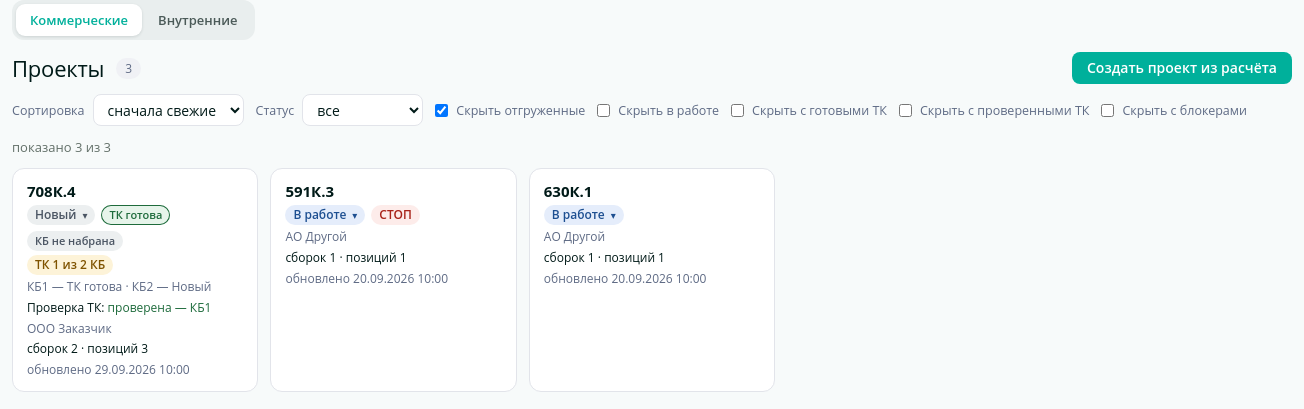
it: ProjectsPage › hides projects in work on request — владелец 19.10
The width and height of the screenshot is (1304, 409).
Expected: the text "630К.1" is shown, left=544, top=181, right=592, bottom=201
What coordinates should you click on to do the following:
click the checkbox labelled "Скрыть в работе"
I would click on:
 (604, 110)
Its box is left=597, top=104, right=610, bottom=116.
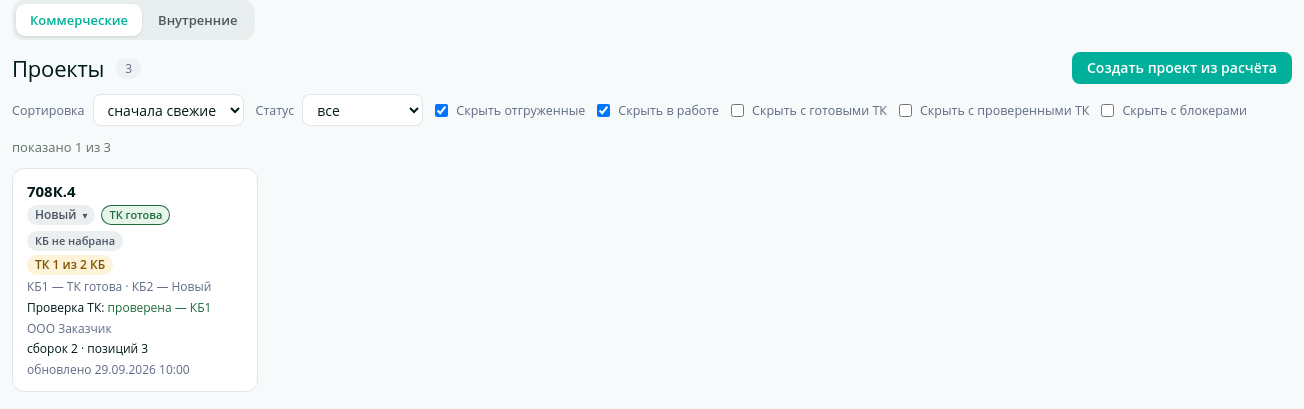
Now the button "630К.1" is gone
